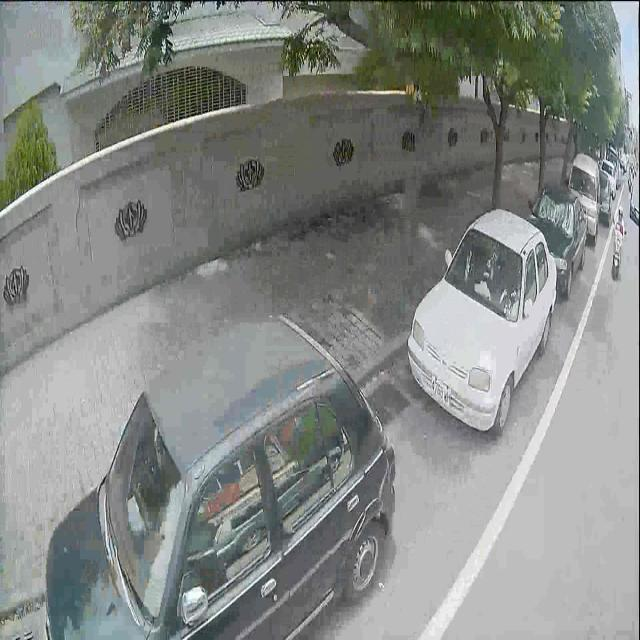person: (615, 208, 624, 232)
